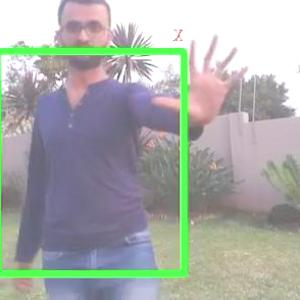follow_hand: (151, 26, 255, 120)
